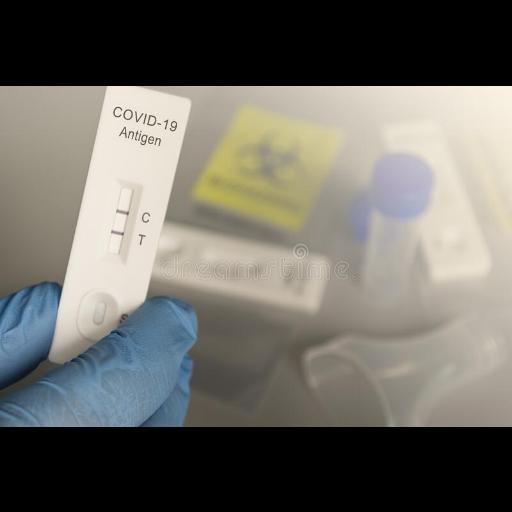Pos: (49, 89, 191, 380)
